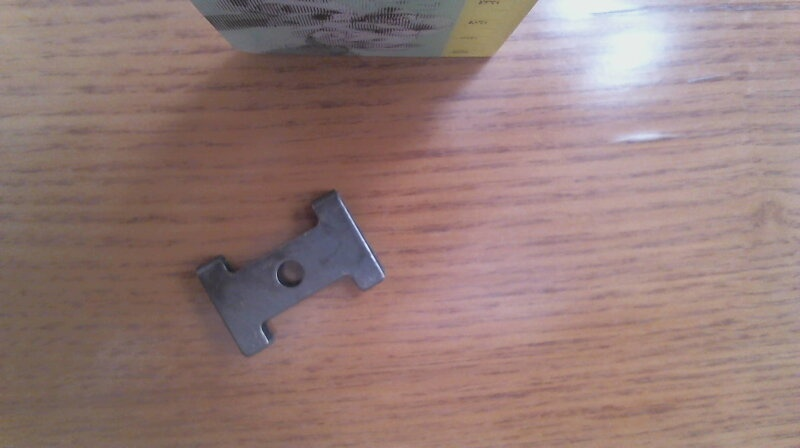O002: (190, 186, 392, 361)
